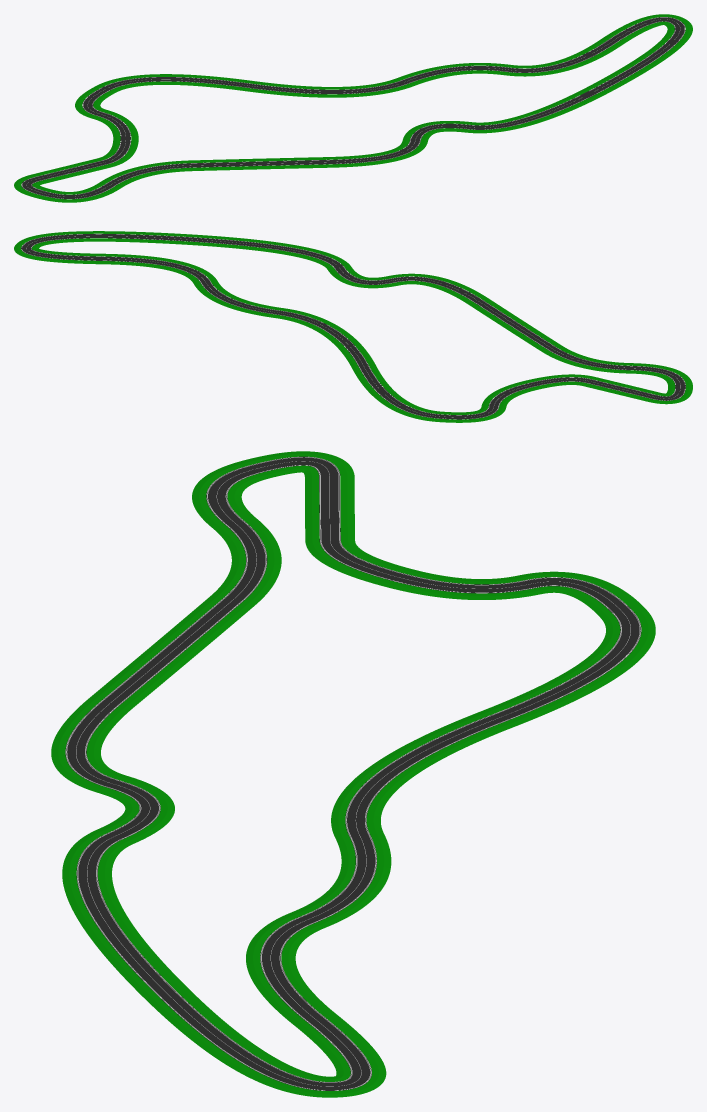
Rendered from Spa.Flat.LOD.test1.glb.
3 renders of one model, top to bottom at view 1: azimuth 30°, elevation 25°; view 2: azimuth 150°, elevation 25°; view 3: azimuth 270°, elevation 25°, orthographic. The views are drawn at different scales.
Parts seen in each view (by area): view 1: Track; view 2: Track; view 3: Track.
Part boxes in pixels (x1,y1,x2,y2): Track: (14, 14, 692, 202); Track: (14, 231, 692, 422); Track: (51, 451, 655, 1097).
Size of the model in its own units: 1075 by 0.6608 by 425.
